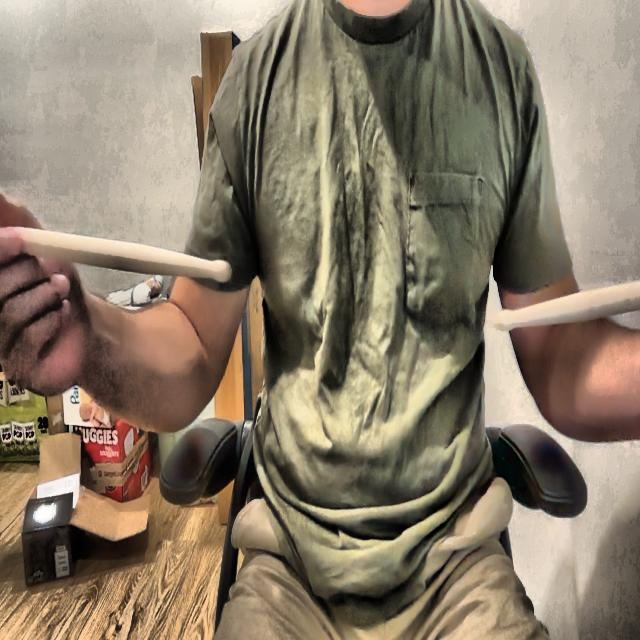Drumstick-Heads: (206, 250, 233, 288), (494, 308, 520, 337)
